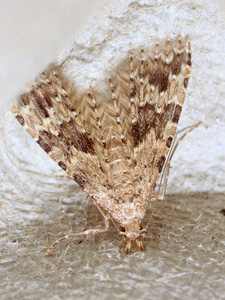Alucitidae: (5, 28, 200, 255)
moth: (7, 30, 202, 257)
